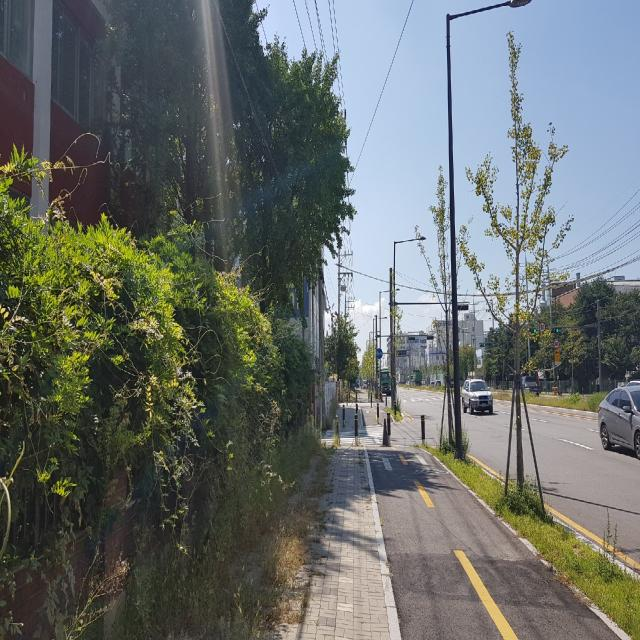횡단보도: (321, 426, 384, 445)
